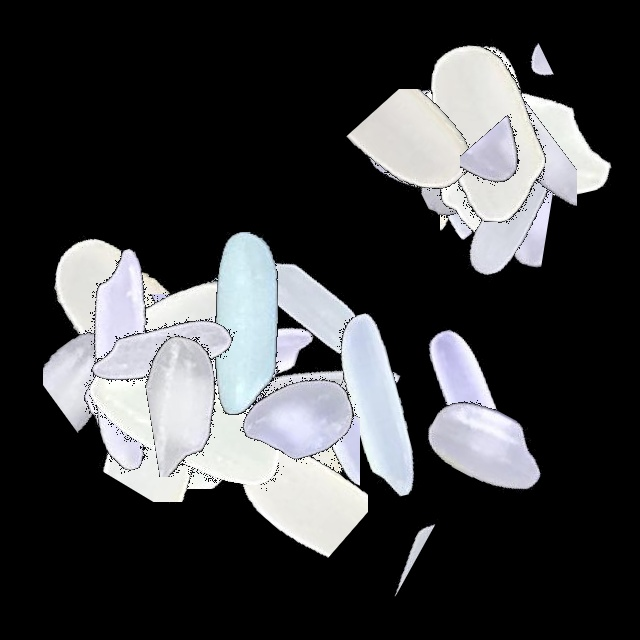Broken: (205, 356, 368, 606), (320, 60, 570, 219), (50, 343, 300, 502), (99, 326, 349, 477), (103, 317, 353, 467), (299, 89, 549, 229), (43, 237, 182, 487), (28, 294, 278, 431), (357, 131, 607, 268), (109, 354, 359, 489), (444, 67, 577, 317), (44, 313, 294, 439), (172, 391, 422, 509), (128, 214, 242, 464), (246, 329, 360, 579), (405, 237, 518, 487), (460, 55, 570, 305), (237, 492, 487, 599), (440, 42, 547, 292), (450, 29, 557, 279), (234, 379, 484, 484), (156, 237, 258, 487), (180, 417, 430, 515), (448, 28, 537, 278), (390, 43, 640, 119), (302, 344, 377, 594)
Full: (297, 32, 547, 282), (200, 266, 450, 516), (92, 230, 342, 480), (187, 184, 437, 434), (10, 190, 260, 440), (73, 225, 323, 475), (43, 283, 293, 533), (72, 271, 322, 521), (343, 16, 593, 266), (307, 0, 557, 250), (361, 32, 611, 282), (381, 17, 631, 267), (253, 282, 503, 532), (364, 29, 614, 279), (39, 213, 289, 463), (390, 83, 640, 333), (16, 259, 266, 509), (0, 237, 250, 487), (362, 319, 612, 569), (361, 7, 611, 257), (60, 299, 310, 549), (122, 199, 372, 449), (38, 229, 288, 479), (177, 292, 427, 542)
